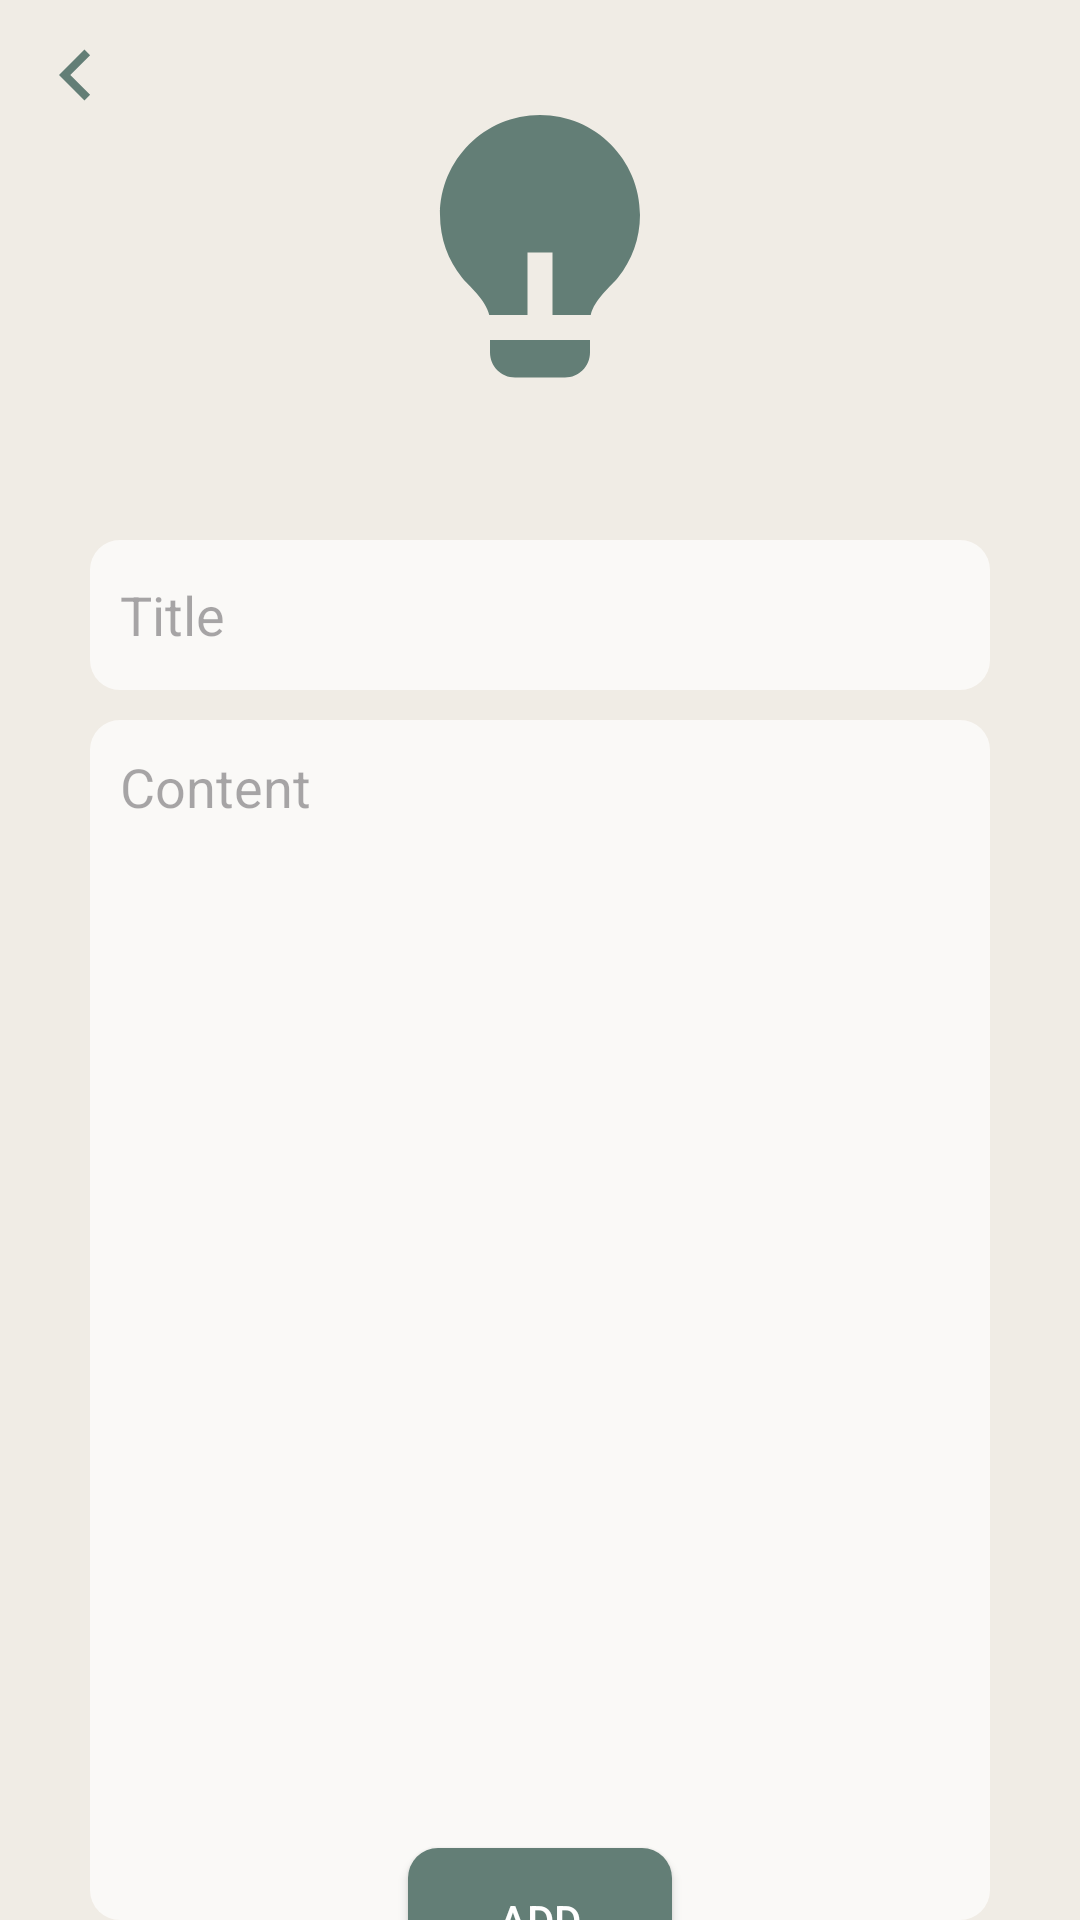

Icon bounding boxes for this 1080x1920 phone screenshot, format (x1, y1, x2, y2):
Back to Main Activity: (59, 49, 90, 101)
